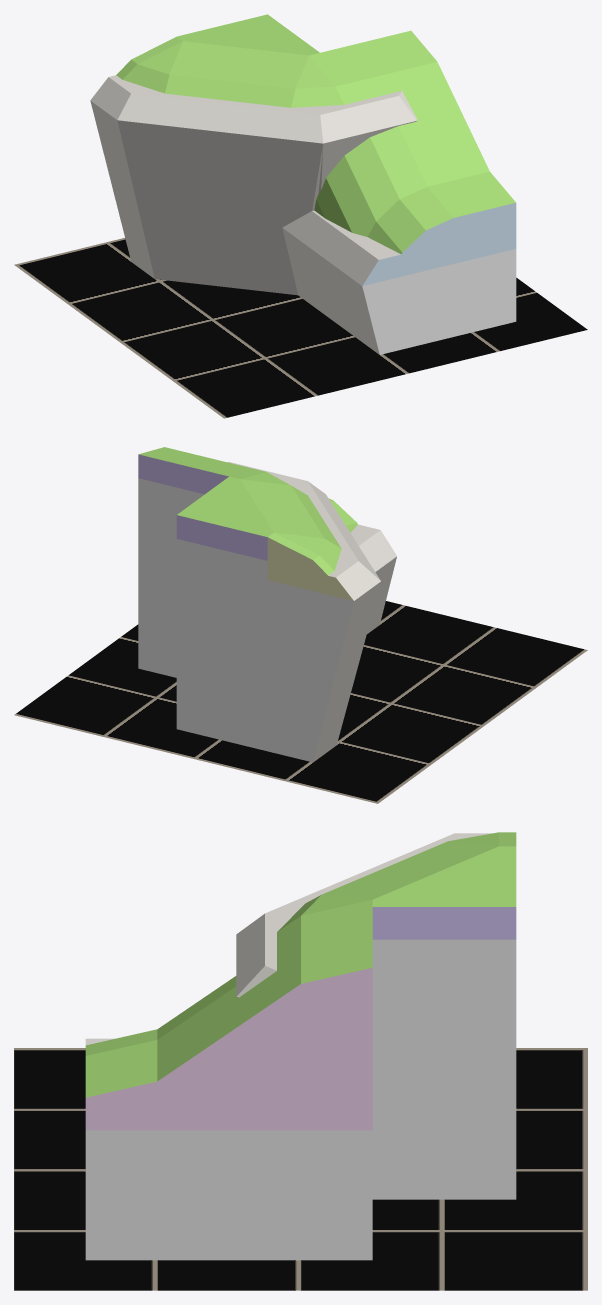
Rendered from Waterfall_Left_Top_Terrain_3x3.glb.
The picture shows the model from 3 angles, top to bottom: view 1: azimuth 30°, elevation 25°; view 2: azimuth 150°, elevation 25°; view 3: azimuth 270°, elevation 25°; orthographic projection. The views are drawn at different scales.
Parts seen in each view (by area): view 1: Waterfall_Left_Top_Terrain_3x3, Floor; view 2: Waterfall_Left_Top_Terrain_3x3, Floor; view 3: Waterfall_Left_Top_Terrain_3x3, Floor.
Part boxes in pixels (x1=…): Waterfall_Left_Top_Terrain_3x3: x1=90, y1=14, x2=516, y2=354; Floor: x1=14, y1=238, x2=587, y2=418; Waterfall_Left_Top_Terrain_3x3: x1=138, y1=447, x2=396, y2=762; Floor: x1=14, y1=601, x2=587, y2=803; Waterfall_Left_Top_Terrain_3x3: x1=85, y1=832, x2=516, y2=1260; Floor: x1=14, y1=1048, x2=587, y2=1290.
Bounding box in the file's own units: 400 × 225 × 400.
8 materials, 1 textured.
